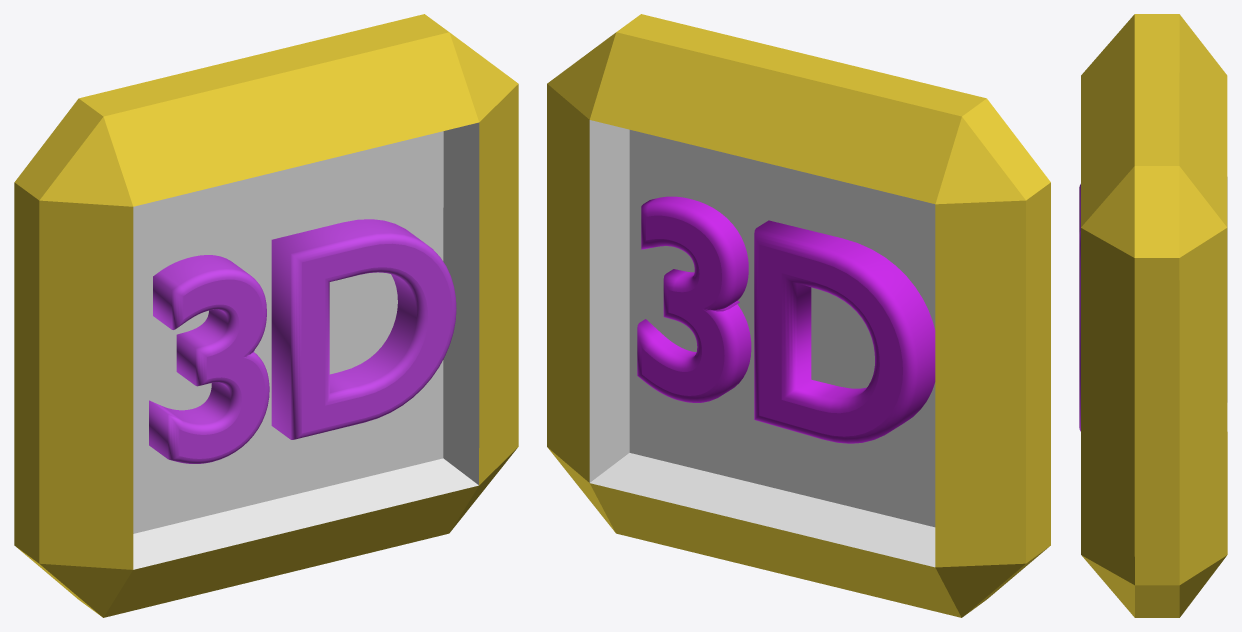
The model's file is aitem 3D.fbx.
The picture shows the model from 3 angles, left to right: view 1: azimuth 30°, elevation 25°; view 2: azimuth 150°, elevation 25°; view 3: azimuth 270°, elevation 25°; orthographic projection. The views are drawn at different scales.
Parts seen in each view (by area): view 1: Cube, テキスト; view 2: Cube, テキスト.001; view 3: Cube, テキスト.
Part boxes in pixels (x1,y1,x2,y2): Cube: [14, 14, 518, 617]; テキスト: [149, 219, 456, 463]; Cube: [547, 14, 1050, 617]; テキスト.001: [637, 196, 935, 443]; Cube: [1081, 14, 1227, 617]; テキスト: [1079, 184, 1080, 431].
Size of the model in its own units: 200 by 200 by 59.5.
